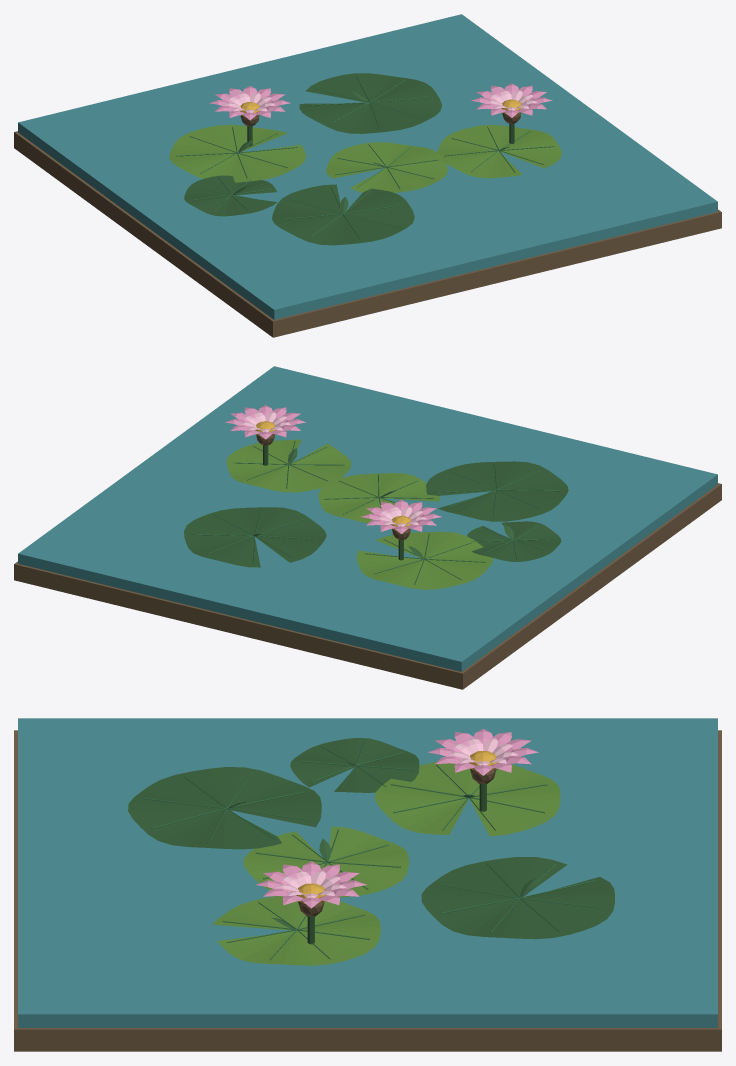
Rendered from lily-pad.glb.
3 renders of one model, top to bottom at view 1: azimuth 30°, elevation 25°; view 2: azimuth 150°, elevation 25°; view 3: azimuth 270°, elevation 25°, orthographic. The views are drawn at different scales.
Visible parts, largest first — view 1: Static_mesh, LilyPad.001_mesh, LilyPad.003_mesh, LilyPad_mesh, LilyPad.002_mesh, LilyPad.004_mesh, LilyPad.005_mesh; view 2: Static_mesh, LilyPad.003_mesh, LilyPad.001_mesh, LilyPad_mesh, LilyPad.002_mesh, LilyPad.004_mesh, LilyPad.005_mesh; view 3: Static_mesh, LilyPad.003_mesh, LilyPad.001_mesh, LilyPad_mesh, LilyPad.002_mesh, LilyPad.004_mesh, LilyPad.005_mesh.
Part boxes in pixels (x1,y1,x2,y2): Static_mesh: (14,14,721,337); LilyPad.001_mesh: (299,73,441,133); LilyPad.003_mesh: (272,184,414,245); LilyPad_mesh: (169,124,306,182); LilyPad.002_mesh: (437,125,561,178); LilyPad.004_mesh: (326,142,447,192); LilyPad.005_mesh: (184,175,277,216); Static_mesh: (14,366,721,689); LilyPad.003_mesh: (426,461,568,521); LilyPad.001_mesh: (184,507,326,567); LilyPad_mesh: (356,531,493,589); LilyPad.002_mesh: (226,439,351,492); LilyPad.004_mesh: (318,473,440,523); LilyPad.005_mesh: (467,521,561,561); Static_mesh: (14,718,721,1051); LilyPad.003_mesh: (128,767,321,849); LilyPad.001_mesh: (421,857,614,939); LilyPad_mesh: (375,761,560,836); LilyPad.002_mesh: (212,896,380,965); LilyPad.004_mesh: (243,826,408,897); LilyPad.005_mesh: (290,738,419,792).
Size of the model in its own units: 3.5 by 0.5553 by 3.5.
